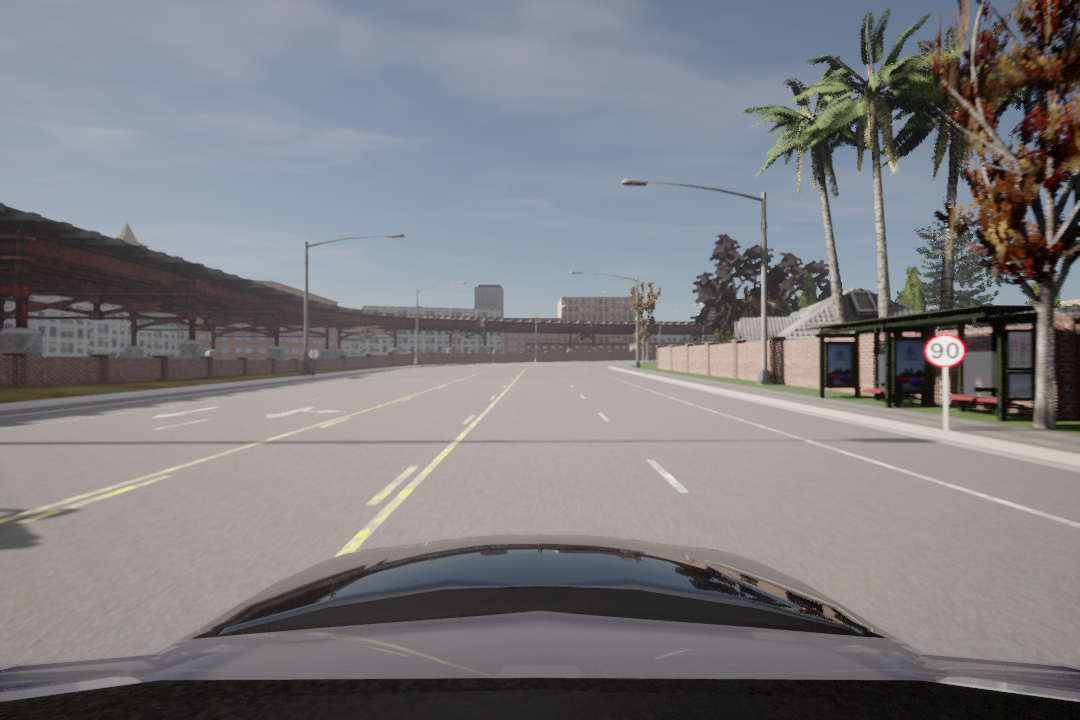RoadSign_forward: (146, 404, 221, 418)
RoadSign_forward_left: (261, 403, 346, 421)
